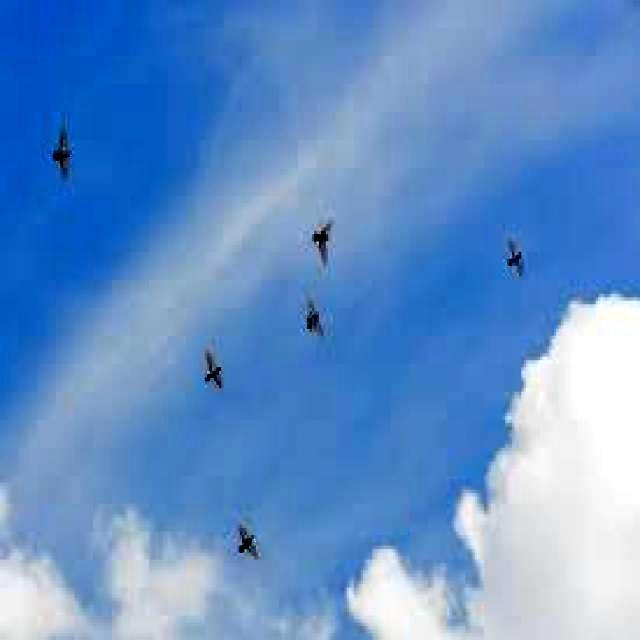bird: (44, 116, 90, 195), (196, 340, 244, 408), (498, 222, 537, 289), (218, 520, 266, 568), (294, 288, 330, 344), (308, 216, 341, 266)
